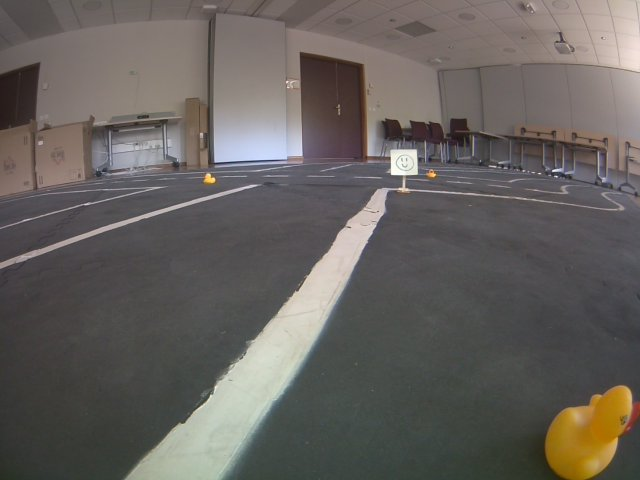Smiley: (389, 148, 419, 177)
